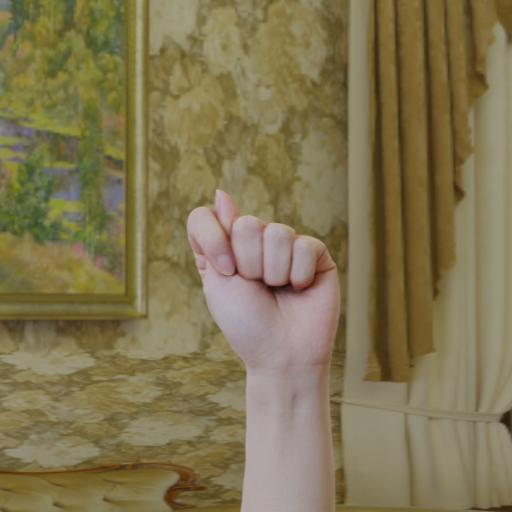T: (177, 187, 345, 384)
